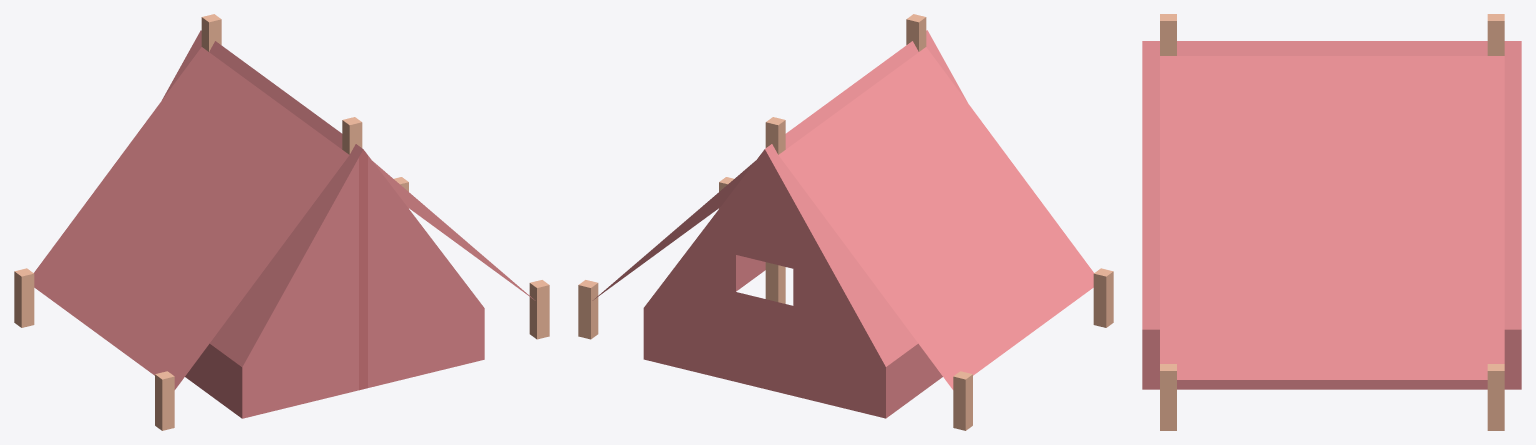
The model's file is tent_detailedClosed.gltf.
3 views of the same model, side by side, from view 1: azimuth 30°, elevation 25°; view 2: azimuth 150°, elevation 25°; view 3: azimuth 270°, elevation 25° (orthographic). The views are drawn at different scales.
Visible parts, largest first — view 1: tent_detailedClosed; view 2: tent_detailedClosed; view 3: tent_detailedClosed.
Boxes of the visible parts, bbox=[...] form: tent_detailedClosed: bbox=[14, 14, 549, 430]; tent_detailedClosed: bbox=[578, 14, 1113, 430]; tent_detailedClosed: bbox=[1142, 14, 1521, 430].
Size of the model in its own units: 0.8749 by 0.5611 by 0.6364.
